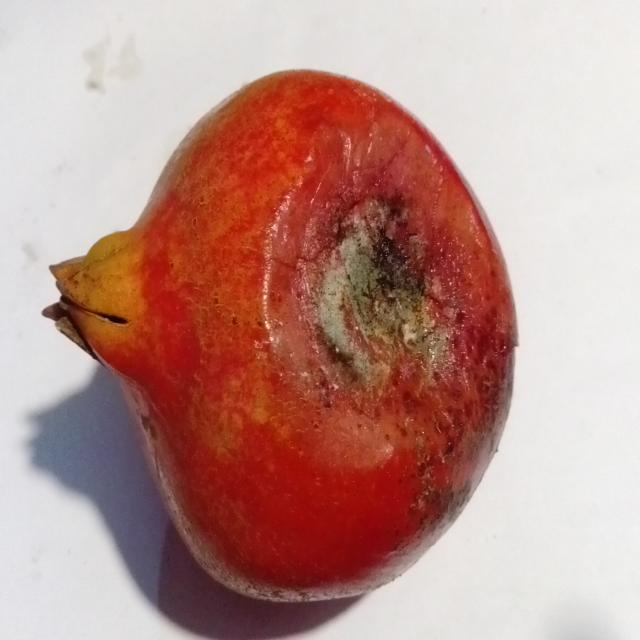Rotten: (42, 68, 520, 605)
